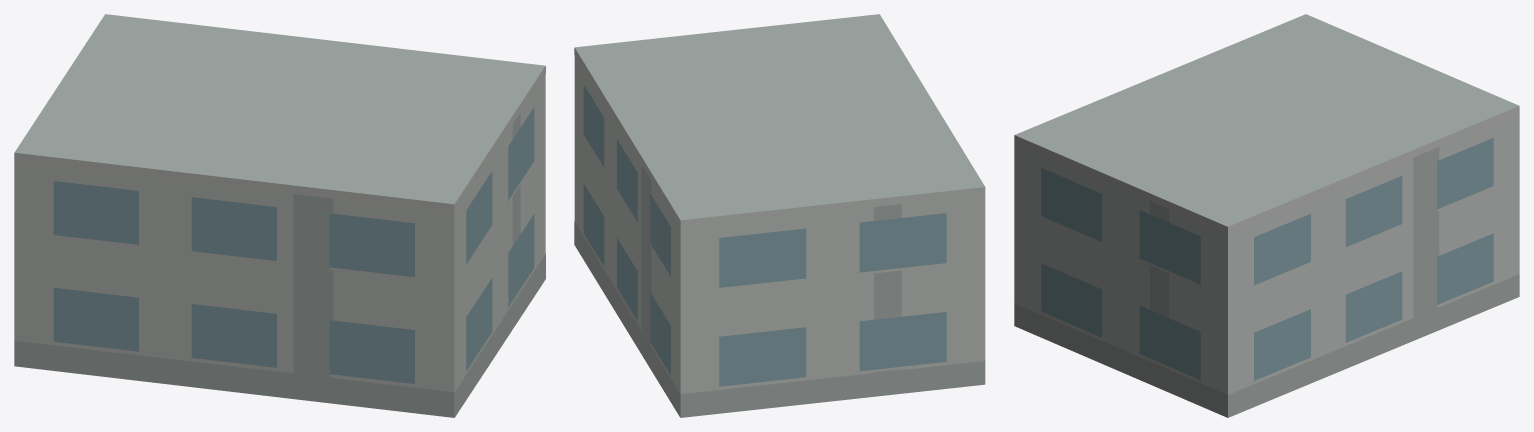
Rendered from residential-53a73cbb-4448-4885-9505-b3444c58a839.glb.
3 views of the same model, side by side, from view 1: azimuth 30°, elevation 25°; view 2: azimuth 150°, elevation 25°; view 3: azimuth 270°, elevation 25° (orthographic). The views are drawn at different scales.
Parts seen in each view (by area): view 1: residential-53a73cbb-4448-4885-9505-b3444c58a839.tmp; view 2: residential-53a73cbb-4448-4885-9505-b3444c58a839.tmp; view 3: residential-53a73cbb-4448-4885-9505-b3444c58a839.tmp.
Boxes of the visible parts, x1,y1,x2,y2 form: residential-53a73cbb-4448-4885-9505-b3444c58a839.tmp: (14, 14, 545, 417); residential-53a73cbb-4448-4885-9505-b3444c58a839.tmp: (574, 14, 985, 417); residential-53a73cbb-4448-4885-9505-b3444c58a839.tmp: (1014, 14, 1519, 417).
Bounding box in the file's own units: 14.59 × 6.1 × 14.62.
